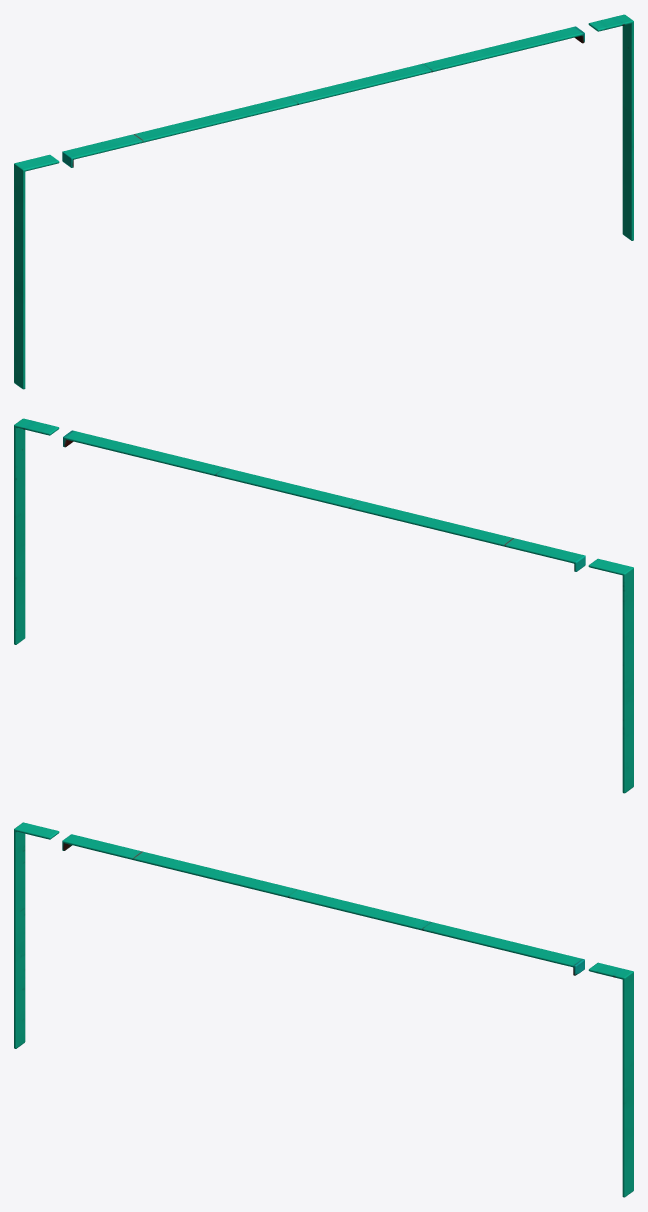
The model's file is goalFrame-trellis-2026-08-06-flat-concept.glb.
The picture shows the model from 3 angles, top to bottom: view 1: azimuth 30°, elevation 25°; view 2: azimuth 150°, elevation 25°; view 3: azimuth 330°, elevation 25°; orthographic projection.
Parts seen in each view (by area): view 1: world; view 2: world; view 3: world.
Part boxes in pixels (left/top/right/bottom): world: left=14, top=14, right=633, bottom=389; world: left=14, top=418, right=633, bottom=793; world: left=14, top=822, right=633, bottom=1197.
Size of the model in its own units: 1 by 0.3447 by 0.0268.
Materials: 1 (1 with a texture image).
